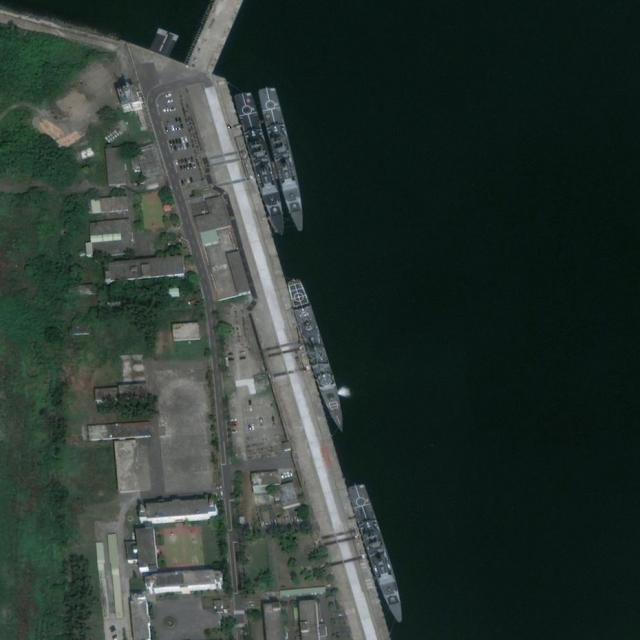Frigate: (286, 277, 350, 436), (233, 89, 296, 250), (348, 482, 408, 626), (258, 84, 309, 234)
